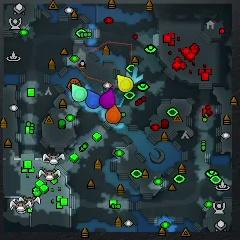p1: (85, 89, 101, 109)
p2: (72, 83, 87, 102)
p3: (99, 89, 115, 108)
p4: (117, 75, 133, 92)
p5: (105, 105, 121, 123)
x3: (126, 66, 144, 83)
